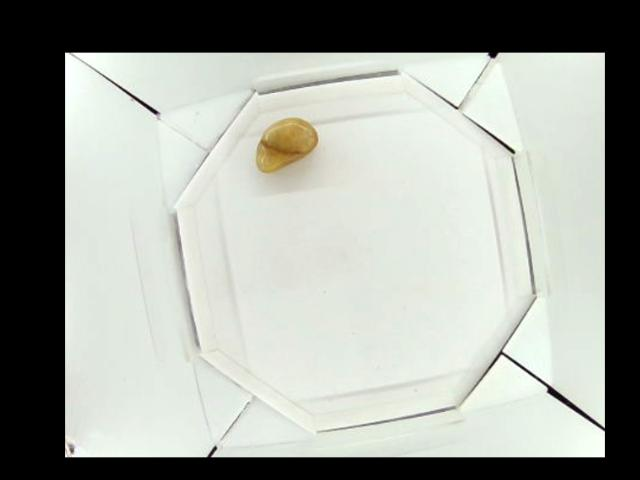Pebble: (248, 116, 321, 173)
